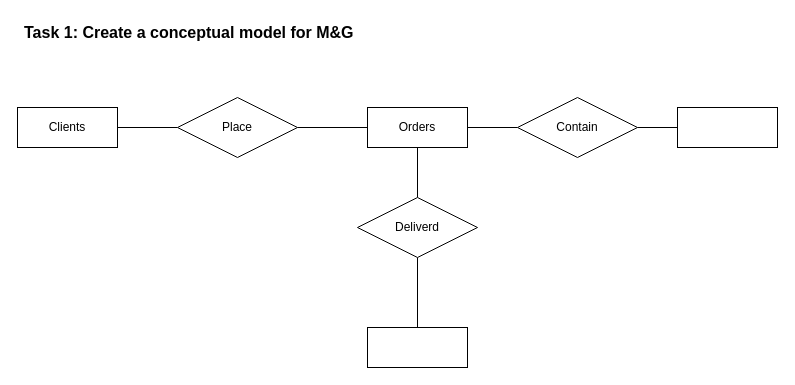
The diagram is 795 pixels wide and 385 high, and some of its shapes have lost their labels. Here are the shapes that lost their labels. From the top down, the box of each, then its label:
(676, 106, 778, 148): Products
(366, 326, 468, 368): Delivery
